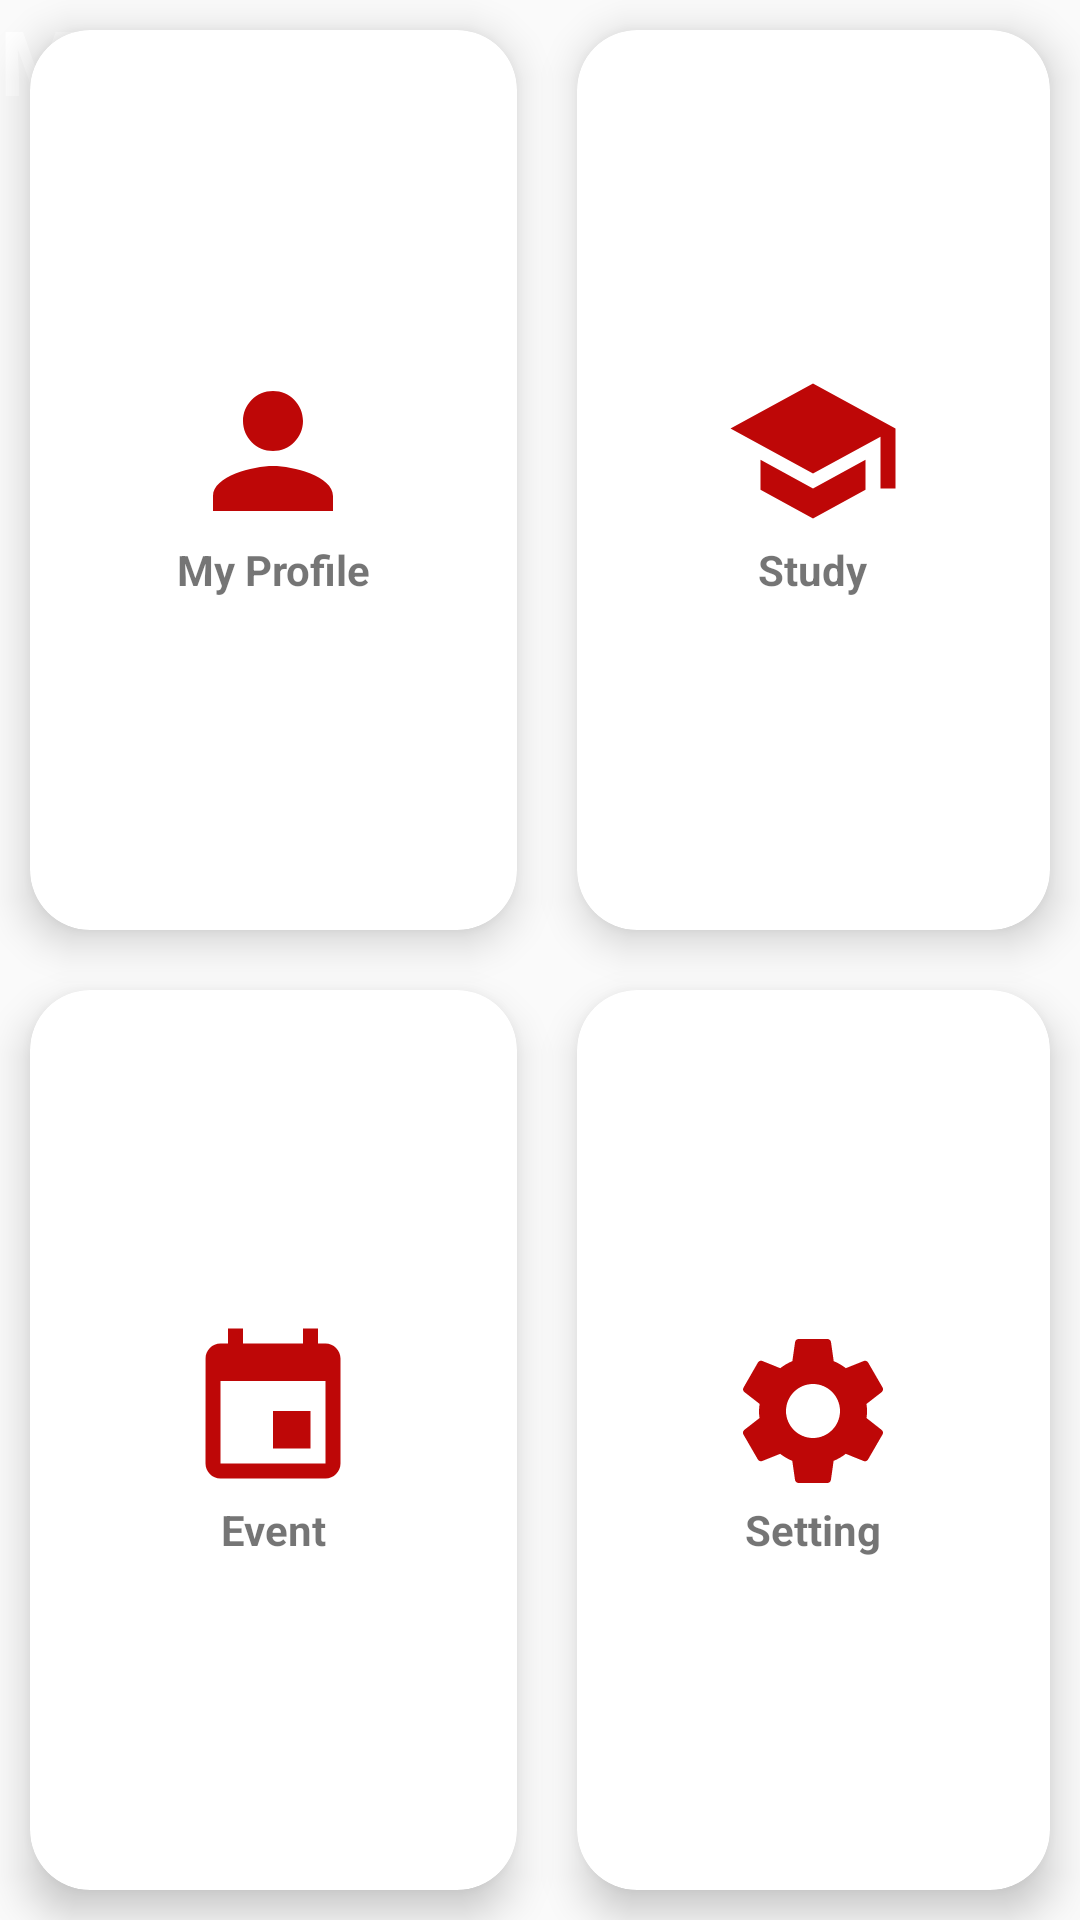

Screen size 1080 x 1920. Icon name, then its box in pixels as (x1, y1, x2, y2):
person: (213, 391, 333, 511)
school: (730, 383, 896, 519)
